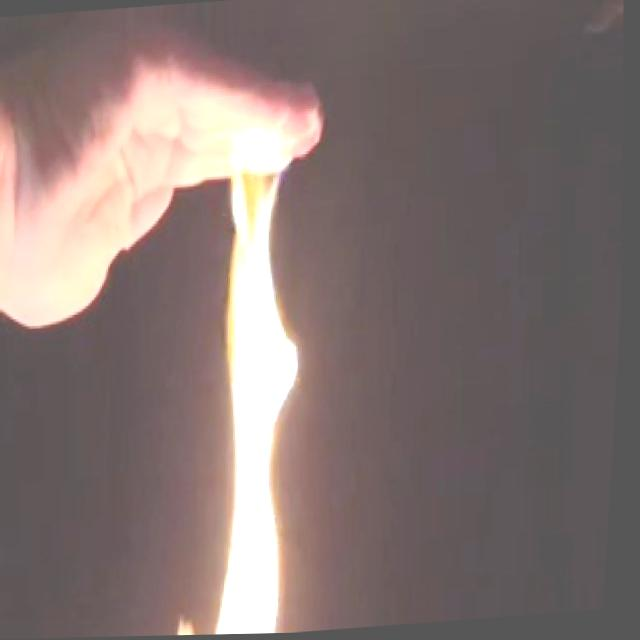helmet: (182, 127, 336, 636)
